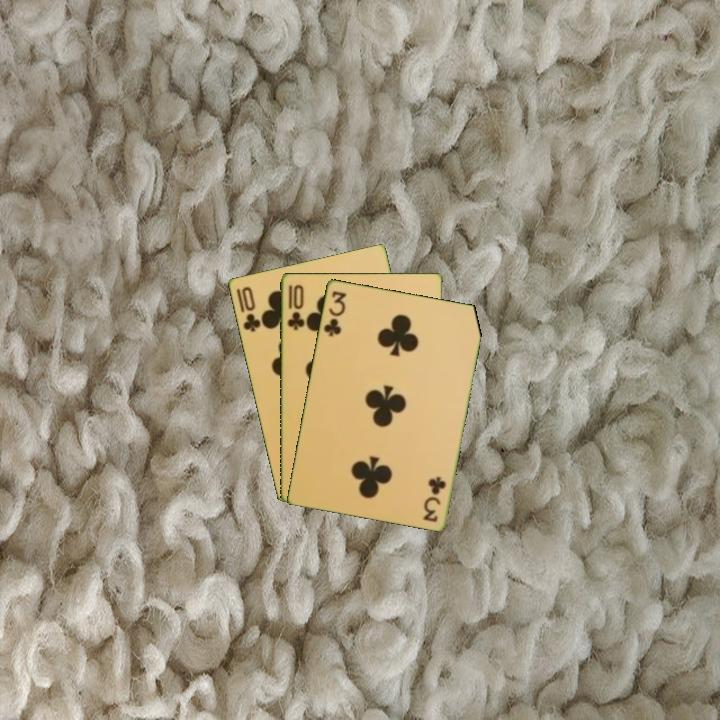10c: (238, 283, 263, 335), (284, 281, 306, 333)
3c: (420, 472, 449, 525), (320, 287, 349, 339)
